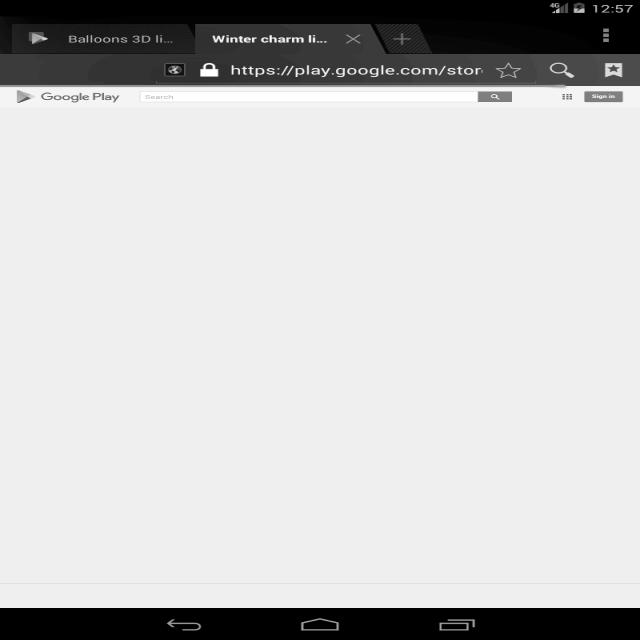Button: (580, 88, 626, 104)
EditText: (135, 88, 518, 104)
ImageButton: (492, 60, 527, 82), (543, 63, 580, 80), (600, 59, 626, 81), (163, 62, 188, 78), (198, 61, 220, 79), (597, 26, 615, 44), (558, 90, 573, 102)
TextView: (66, 30, 178, 48), (209, 32, 333, 44), (39, 88, 124, 102)
